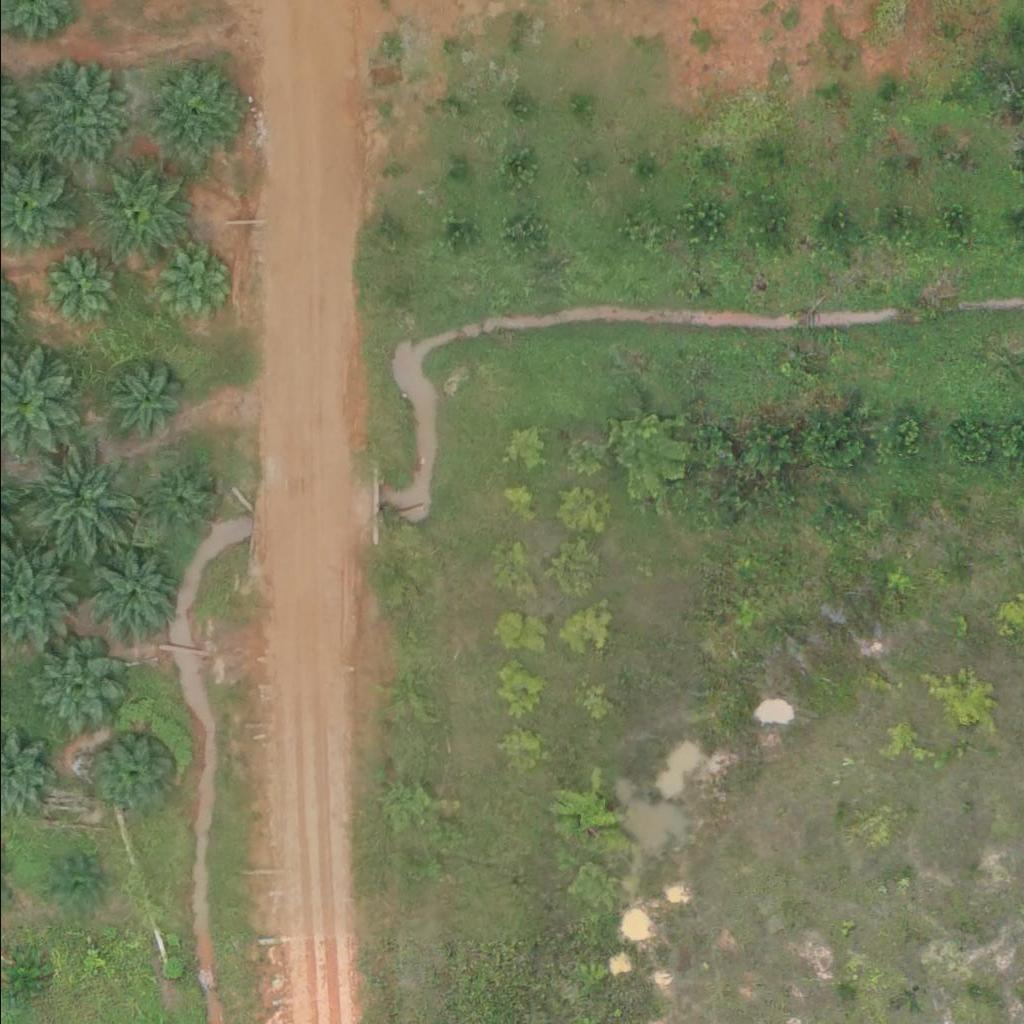Kelapa_Sawit: (21, 447, 146, 572), (15, 62, 129, 175), (141, 63, 242, 163), (90, 161, 191, 261), (84, 551, 172, 639), (97, 358, 186, 445), (145, 246, 233, 333), (30, 642, 118, 729), (96, 737, 172, 812), (41, 251, 116, 326), (146, 471, 209, 533), (46, 858, 96, 908)
